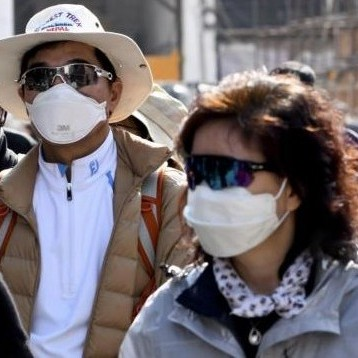with_mask: (185, 123, 323, 263), (10, 21, 126, 144)
